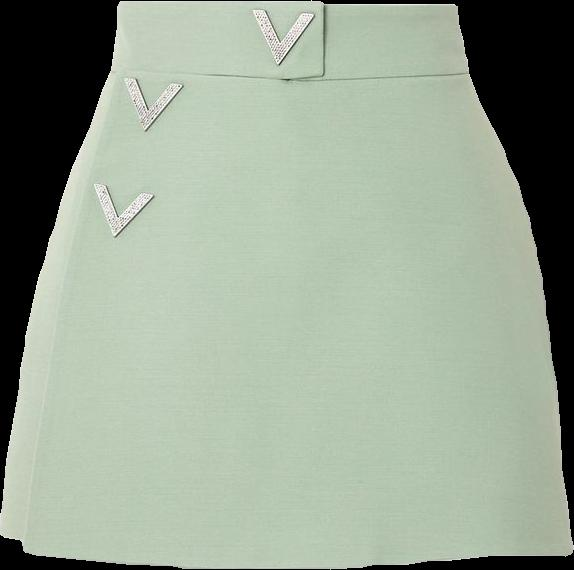Hemline: (0, 529, 573, 569)
Waistline: (110, 65, 469, 79), (117, 0, 459, 10)
